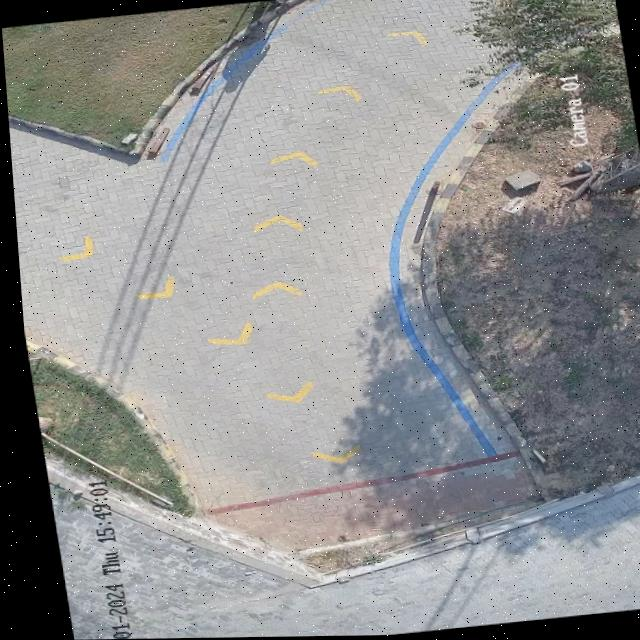No Car: (2, 0, 640, 640)
